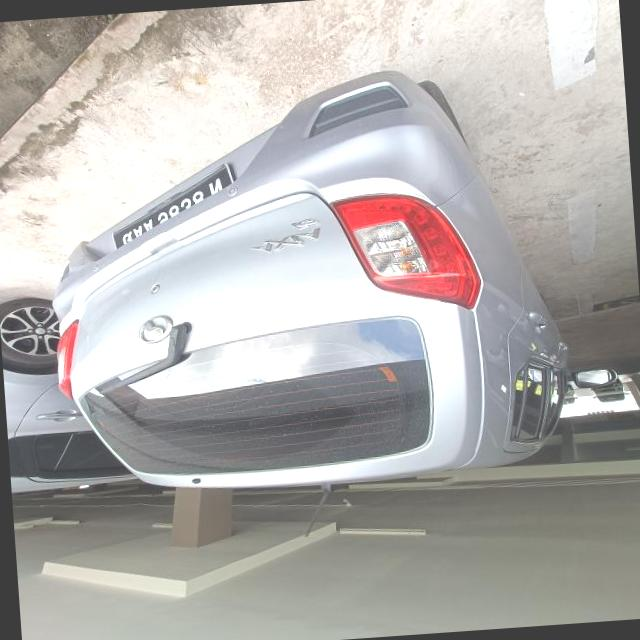PeroduaAxia: (33, 58, 588, 505)
